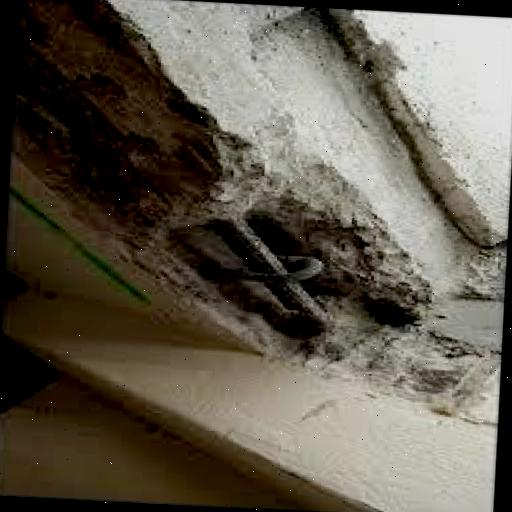spalling: (139, 190, 405, 364)
